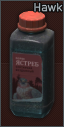Gunpowder "Hawk: (0, 0, 64, 127)
